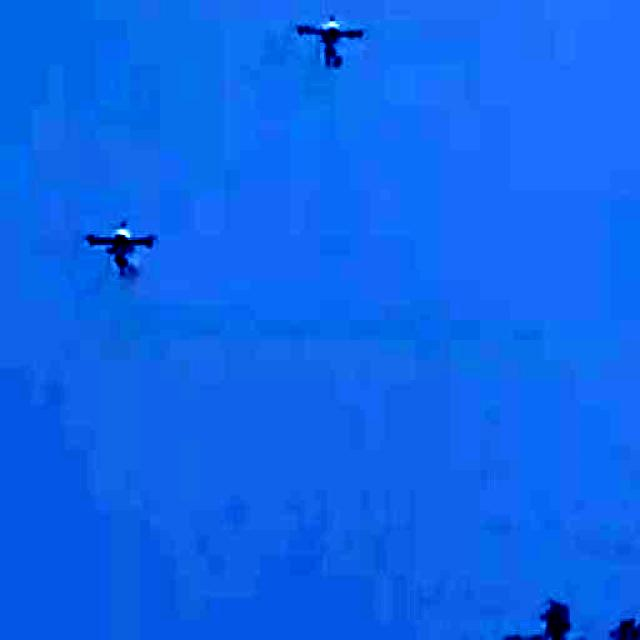bird: (296, 14, 368, 74), (82, 215, 155, 274)
